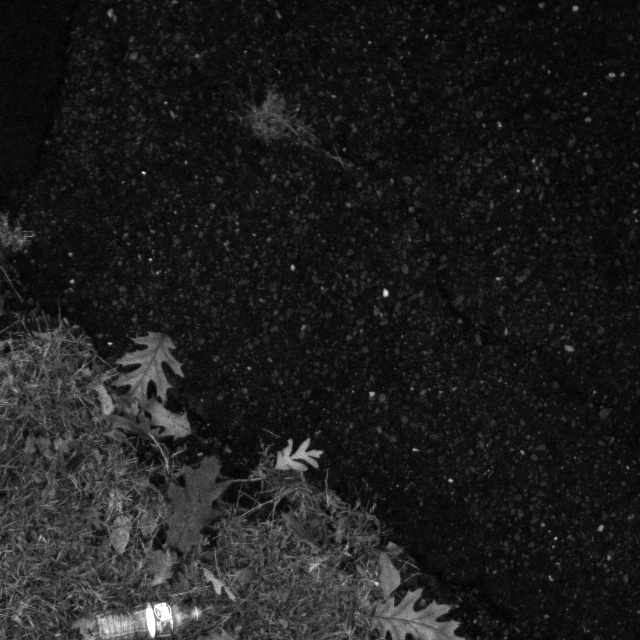bottle: (65, 584, 208, 640)
